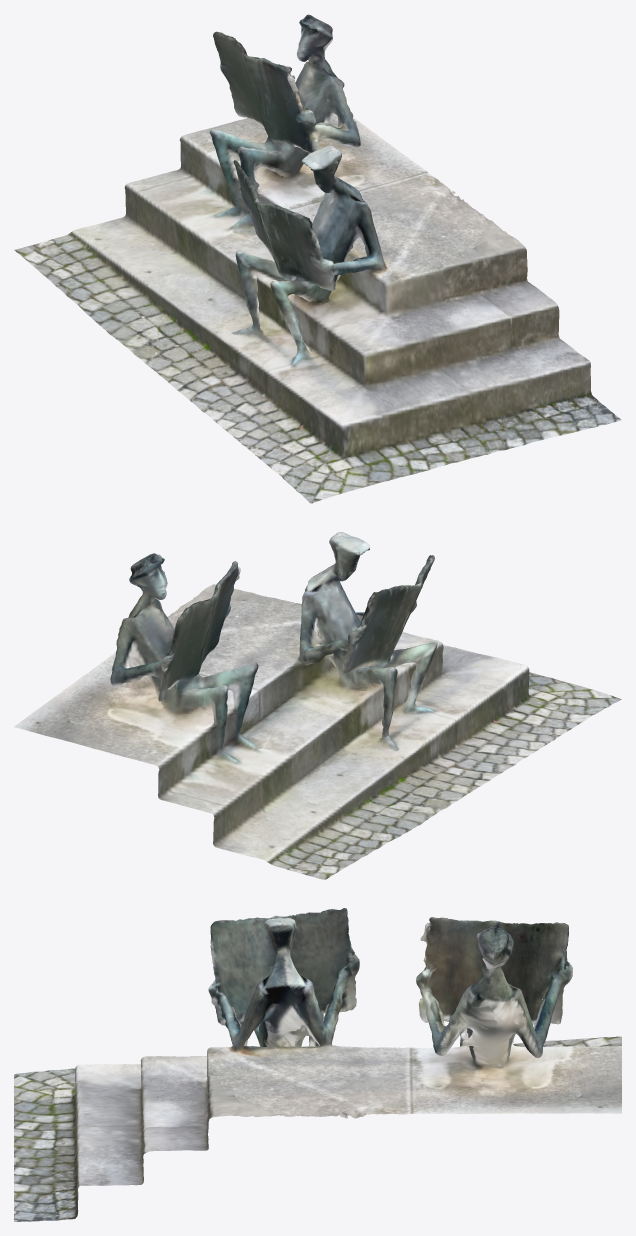
Rendered from reading.glb.
3 renders of one model, top to bottom at view 1: azimuth 30°, elevation 25°; view 2: azimuth 150°, elevation 25°; view 3: azimuth 270°, elevation 25°, orthographic. The views are drawn at different scales.
Parts seen in each view (by area): view 1: Object_4, Object_5; view 2: Object_4, Object_5; view 3: Object_4, Object_5.
Boxes of the visible parts, x1,y1,x2,y2 form: Object_4: [14, 14, 579, 503]; Object_5: [33, 28, 621, 464]; Object_4: [14, 532, 621, 879]; Object_5: [89, 534, 529, 868]; Object_4: [14, 910, 621, 1201]; Object_5: [14, 908, 583, 1221].
Size of the model in its own units: 1.69 by 1.34 by 2.79.
1 material, 1 textured.
